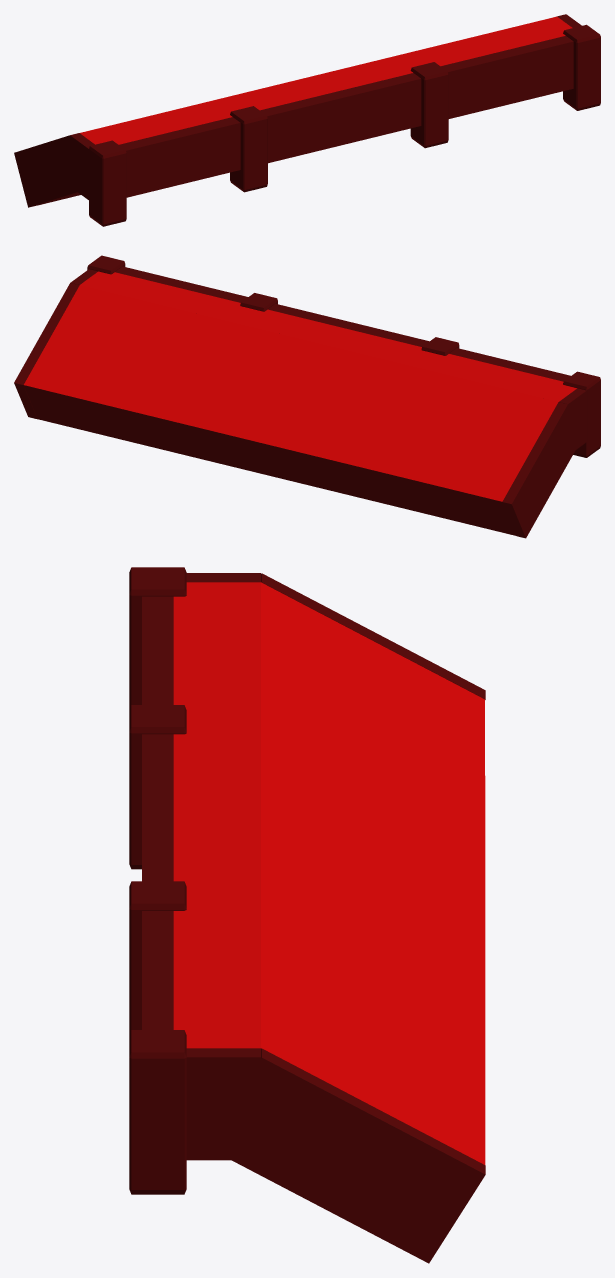
Rendered from 3D_EnemyProtectionWall.fbx.
3 renders of one model, top to bottom at view 1: azimuth 30°, elevation 25°; view 2: azimuth 150°, elevation 25°; view 3: azimuth 270°, elevation 25°, orthographic. The views are drawn at different scales.
Visible parts, largest first — view 1: 3D_EnemyProtectionWall; view 2: 3D_EnemyProtectionWall; view 3: 3D_EnemyProtectionWall.
Boxes of the visible parts, x1=… form: 3D_EnemyProtectionWall: x1=14, y1=14, x2=600, y2=226; 3D_EnemyProtectionWall: x1=14, y1=255, x2=600, y2=538; 3D_EnemyProtectionWall: x1=129, y1=567, x2=485, y2=1263.
Bounding box in the file's own units: 1107 × 225 × 342.
